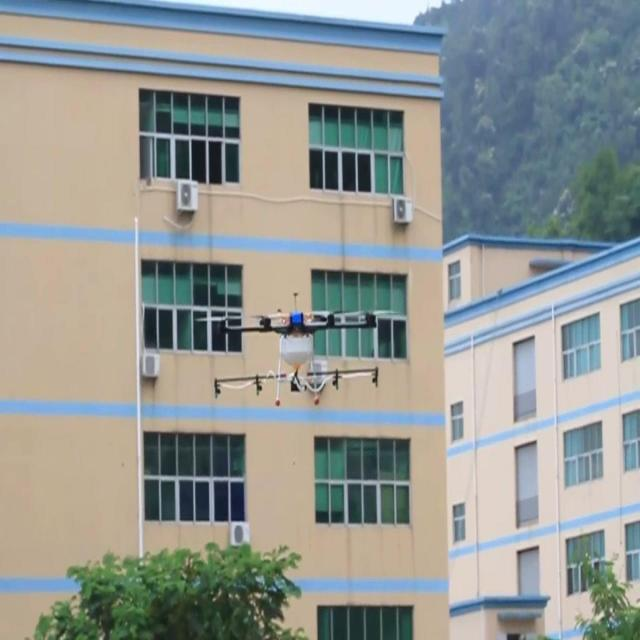UAV: (214, 291, 378, 407)
